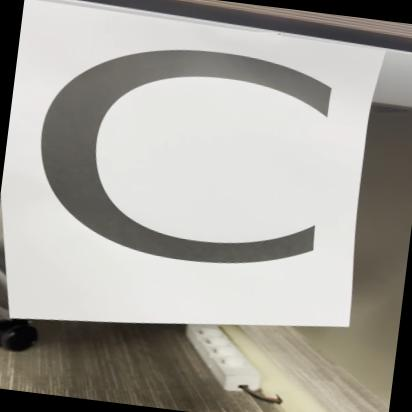seat: (0, 0, 396, 346)
